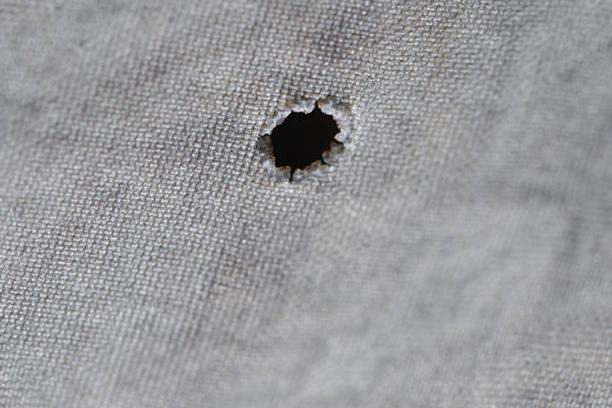hole: (250, 88, 356, 184)
